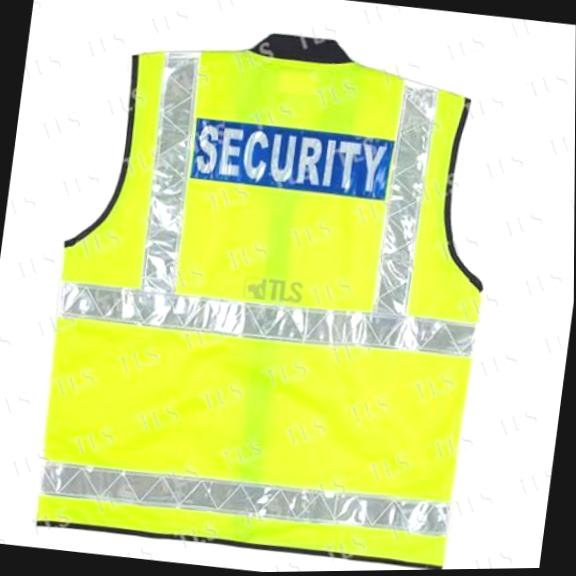safety_vest: (21, 0, 516, 576)
